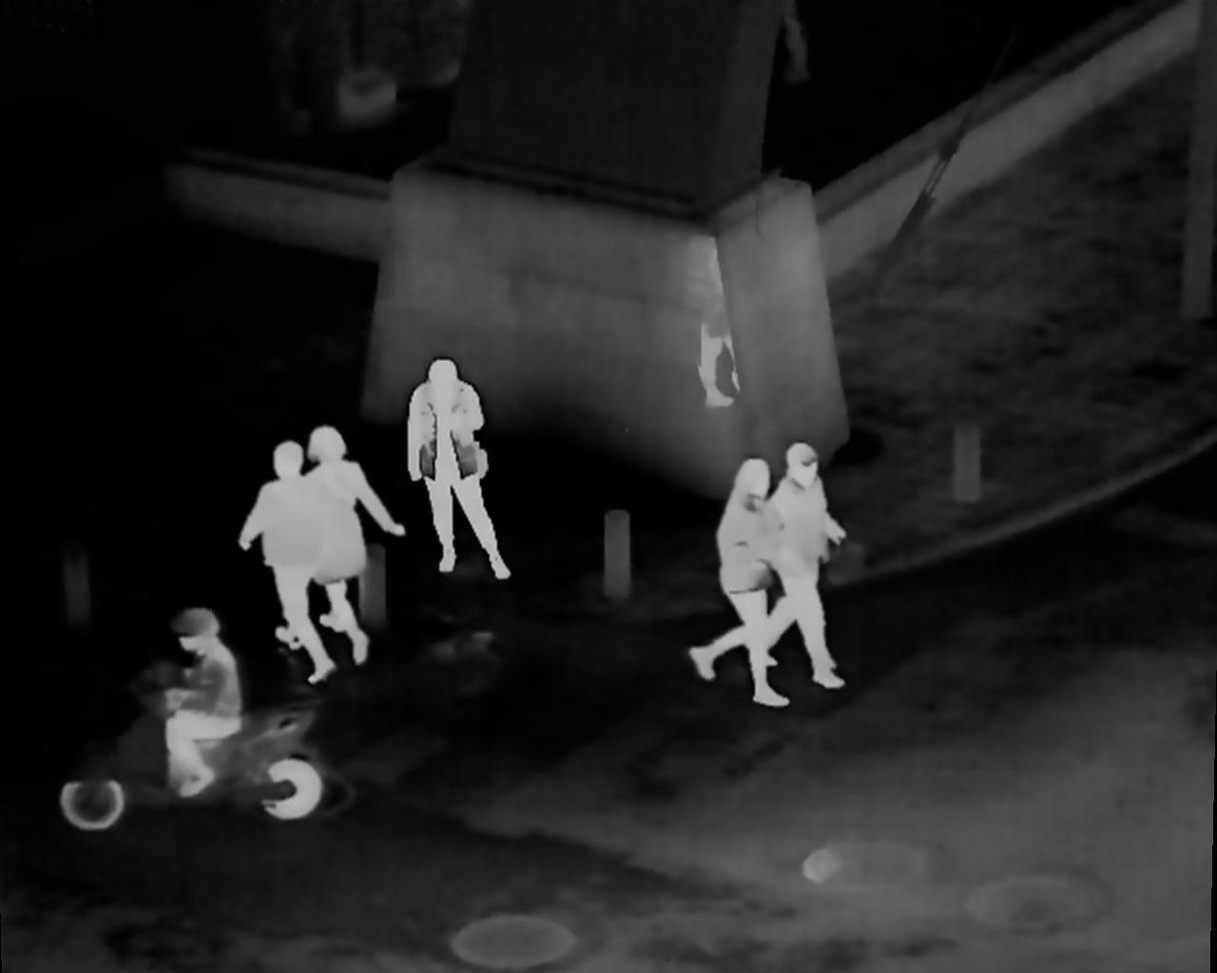person: (766, 437, 860, 700), (410, 348, 512, 583), (694, 459, 782, 707), (144, 618, 256, 811), (248, 444, 332, 678), (306, 423, 382, 675)
